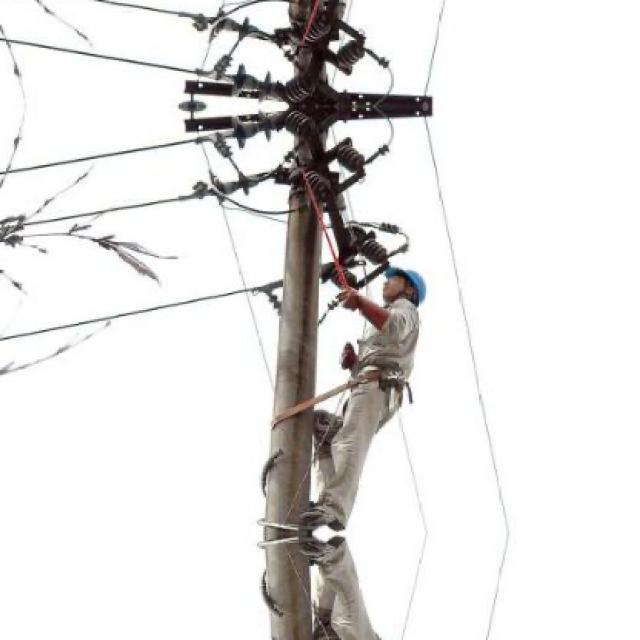2: (297, 268, 434, 529), (297, 540, 435, 638)
helmet: (377, 267, 431, 304)
